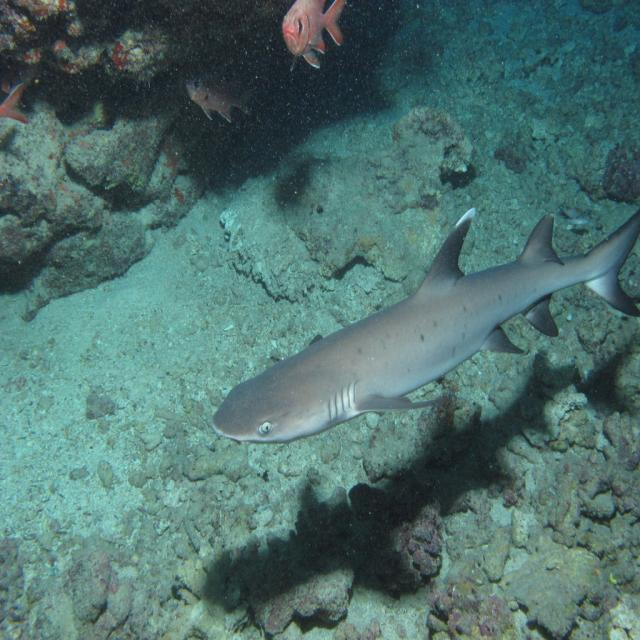Shark: (210, 210, 640, 442)
